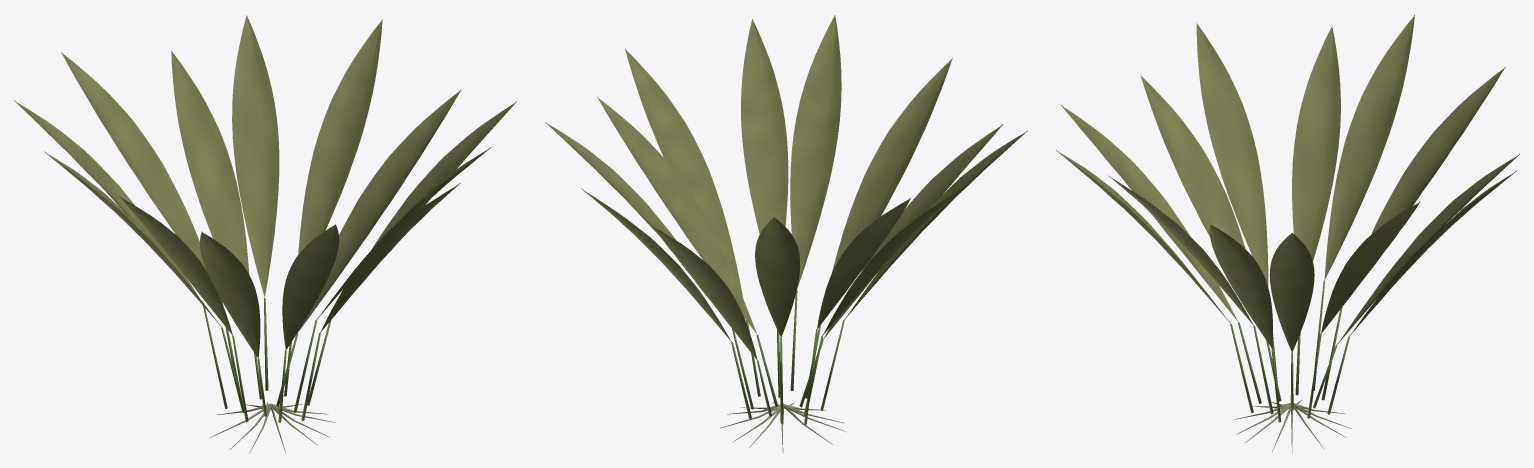
File: crypt-mobile.glb
3 renders of one model, left to right at view 1: azimuth 30°, elevation 25°; view 2: azimuth 150°, elevation 25°; view 3: azimuth 270°, elevation 25°, orthographic. The views are drawn at different scales.
Visible parts, largest first — view 1: blade, petiole, anchoring-root; view 2: blade, petiole, anchoring-root; view 3: blade, petiole, anchoring-root.
Boxes of the visible parts, box(x1,y1,x2,y2) form: blade: box(14, 15, 516, 358); petiole: box(203, 298, 331, 422); anchoring-root: box(209, 402, 335, 453); blade: box(545, 15, 1027, 360); petiole: box(731, 290, 844, 424); anchoring-root: box(720, 402, 846, 453); blade: box(1056, 14, 1519, 352); petiole: box(1230, 280, 1349, 422); anchoring-root: box(1234, 400, 1351, 453).
Size of the model in its own units: 0.7409 by 0.5695 by 0.7465.
